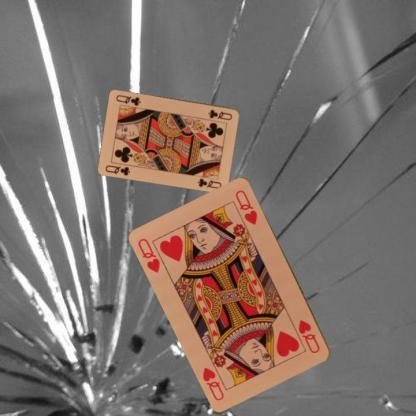Qc: (103, 162, 132, 177), (206, 107, 233, 121)
Qh: (135, 236, 162, 274), (296, 316, 322, 354)
